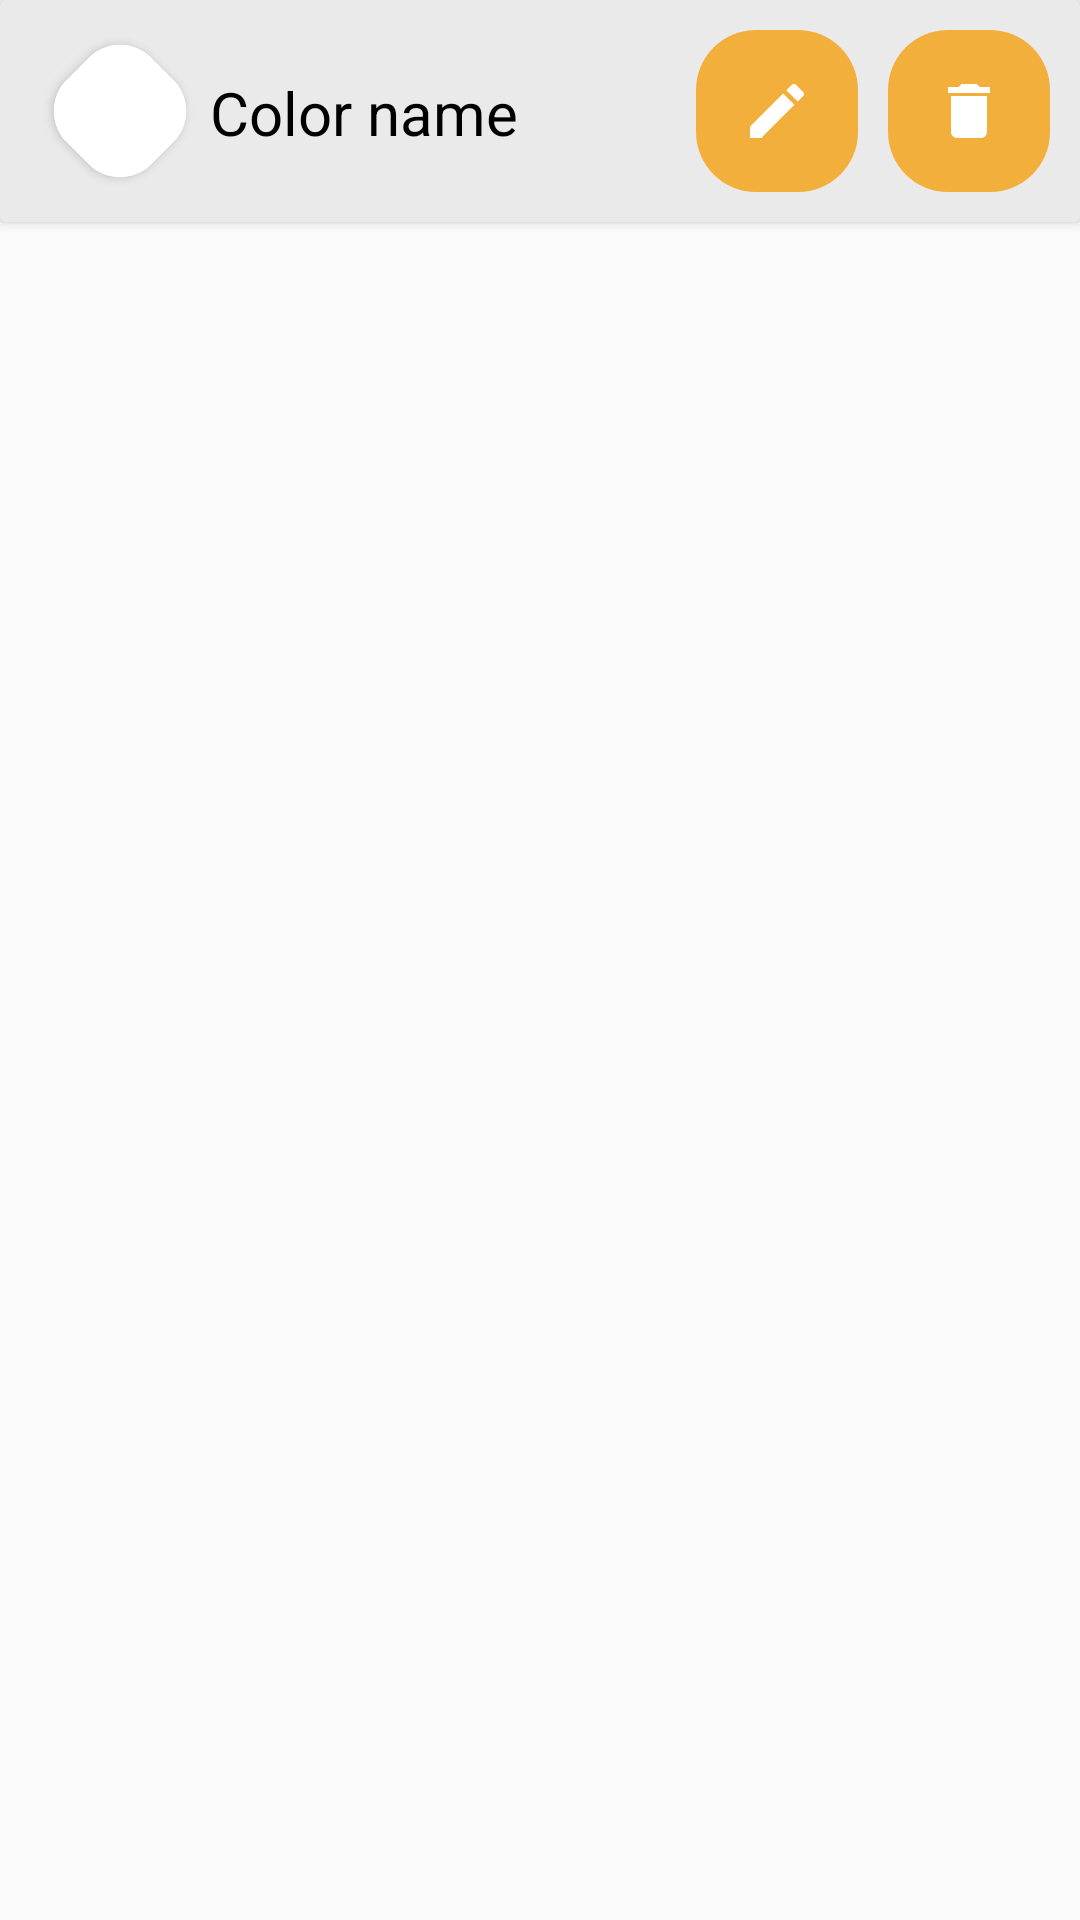

Where to tap for icons on this 1080w x 1920h app screen, as (x,y):
delete: (969,111)
edit: (777,111)
